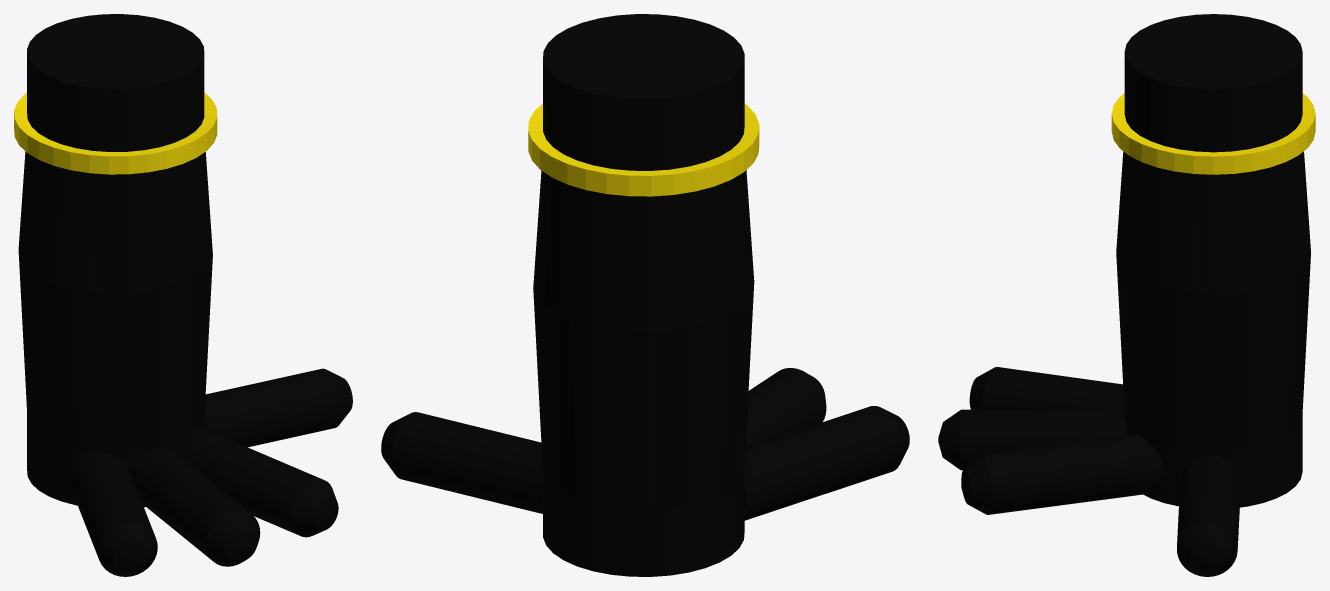
Rendered from Hand.fbx.
3 renders of one model, left to right at view 1: azimuth 30°, elevation 25°; view 2: azimuth 150°, elevation 25°; view 3: azimuth 270°, elevation 25°, orthographic. The views are drawn at different scales.
Parts seen in each view (by area): view 1: Cylinder.004, Cylinder.005; view 2: Cylinder.004, Cylinder.005; view 3: Cylinder.004, Cylinder.005.
Part boxes in pixels (bbox=[...]): Cylinder.004: bbox=[18, 14, 352, 576]; Cylinder.005: bbox=[14, 92, 217, 174]; Cylinder.004: bbox=[381, 14, 909, 576]; Cylinder.005: bbox=[528, 103, 759, 196]; Cylinder.004: bbox=[938, 14, 1310, 576]; Cylinder.005: bbox=[1111, 93, 1315, 174].
Size of the model in its own units: 668 by 767 by 620.
